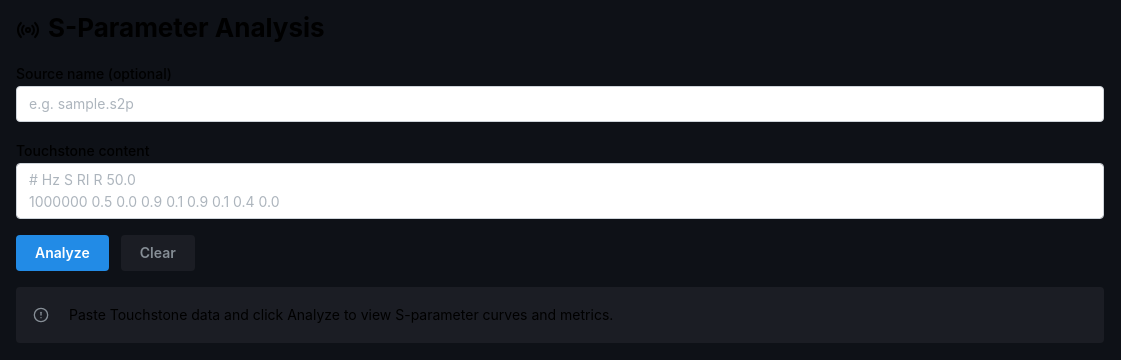
Test case: SParameterAnalysisScreen › clear button resets state
The width and height of the screenshot is (1121, 360).
Type "# test" into the text box labelled "Touchstone content" at coordinates (560, 191), box [16,163,1104,219]
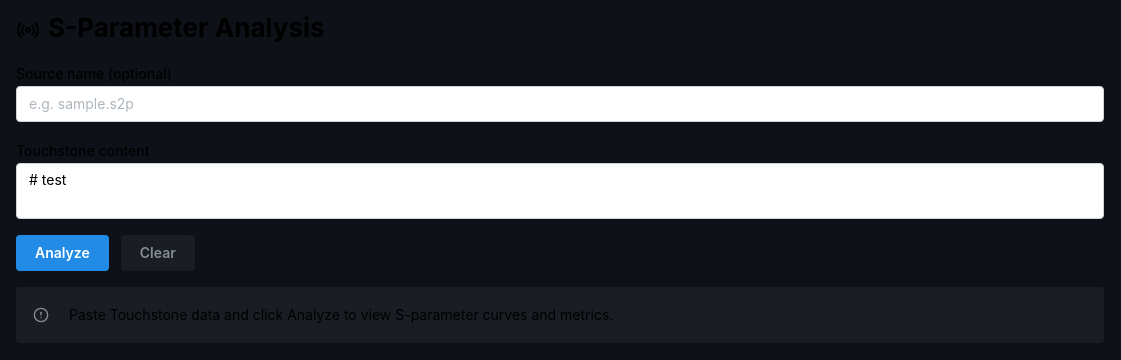
Click the button "Clear" at coordinates (158, 253), box [121,235,195,271]
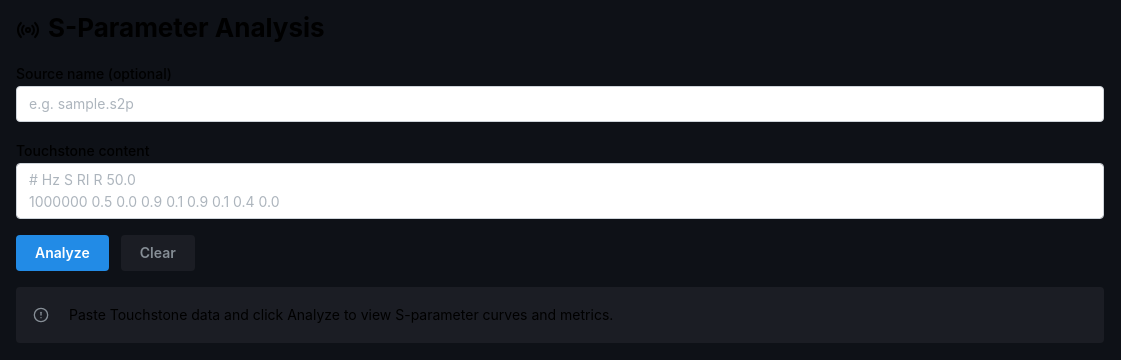
Expected: the text box labelled "Touchstone content" is empty, [16,163,1104,219]
